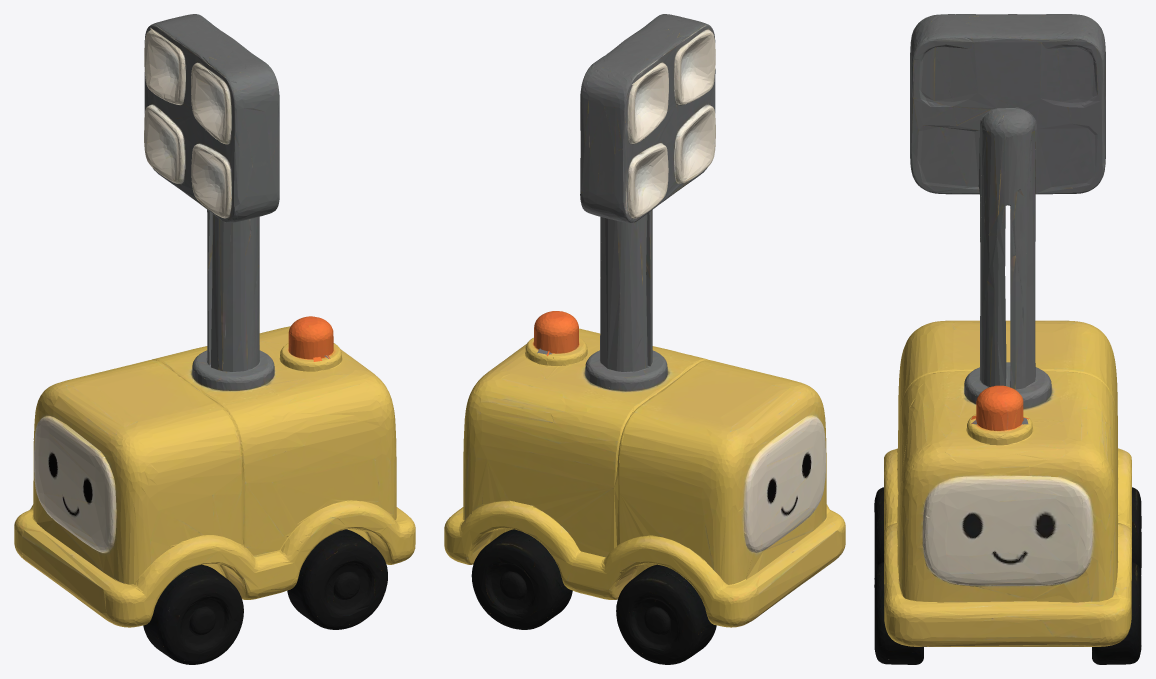
File: floodlight_v1.glb
3 views of the same model, side by side, from view 1: azimuth 30°, elevation 25°; view 2: azimuth 150°, elevation 25°; view 3: azimuth 270°, elevation 25° (orthographic). The views are drawn at different scales.
Parts seen in each view (by area): view 1: body_mesh, lamps_mesh, mast_mesh, wheelL_mesh, wheelR_mesh, beacon_mesh; view 2: body_mesh, lamps_mesh, mast_mesh, wheelL_mesh, wheelR_mesh, beacon_mesh; view 3: body_mesh, lamps_mesh, mast_mesh, wheelR_mesh, wheelL_mesh, beacon_mesh.
Part boxes in pixels (bbox=[...]): body_mesh: bbox=[14, 326, 415, 664]; lamps_mesh: bbox=[144, 14, 279, 230]; mast_mesh: bbox=[192, 209, 341, 389]; wheelL_mesh: bbox=[143, 562, 243, 661]; wheelR_mesh: bbox=[287, 527, 387, 626]; beacon_mesh: bbox=[289, 316, 333, 362]; body_mesh: bbox=[444, 328, 845, 664]; lamps_mesh: bbox=[580, 14, 715, 277]; mast_mesh: bbox=[525, 210, 667, 389]; wheelL_mesh: bbox=[616, 561, 716, 661]; wheelR_mesh: bbox=[471, 526, 572, 626]; beacon_mesh: bbox=[534, 311, 578, 357]; body_mesh: bbox=[876, 320, 1139, 664]; lamps_mesh: bbox=[910, 14, 1105, 293]; mast_mesh: bbox=[964, 131, 1051, 438]; wheelR_mesh: bbox=[874, 562, 1141, 656]; wheelL_mesh: bbox=[874, 487, 1141, 575]; beacon_mesh: bbox=[968, 385, 1031, 428].
Size of the model in its own units: 1.5 by 2.62 by 1.06.
1 material, 1 textured.
